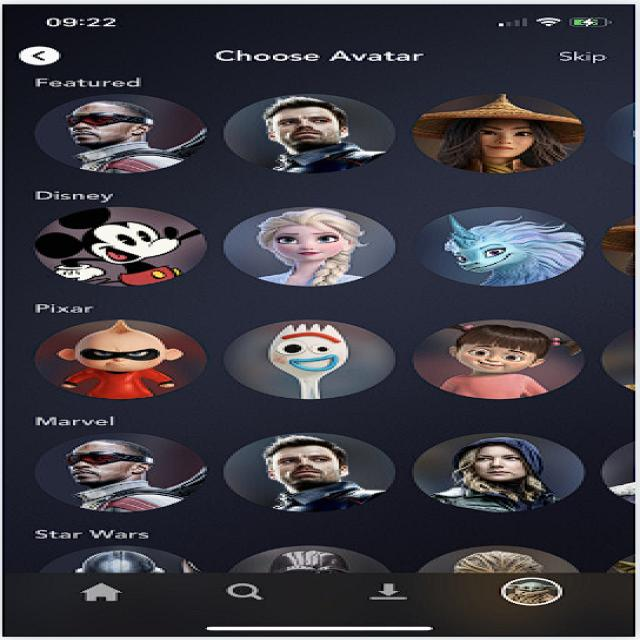column: (3, 71, 221, 572), (406, 69, 595, 576), (220, 71, 409, 574)
icon button: (44, 576, 138, 610), (492, 578, 574, 612), (207, 577, 284, 610), (356, 577, 428, 608), (16, 40, 78, 73)
row: (3, 181, 640, 299), (3, 408, 638, 524), (3, 71, 640, 182), (3, 300, 640, 407)
view: (10, 194, 216, 296), (0, 429, 223, 519), (410, 76, 590, 178), (409, 427, 600, 520), (15, 316, 214, 404), (27, 78, 207, 172), (233, 198, 404, 293), (233, 76, 395, 176), (221, 426, 400, 516), (412, 319, 595, 407), (421, 202, 588, 298), (233, 319, 407, 402)
